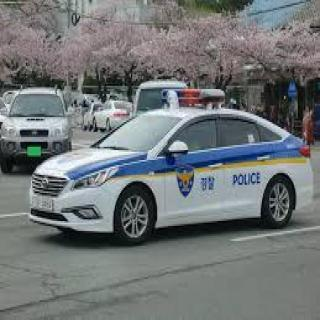Police_car: (30, 89, 314, 237)
